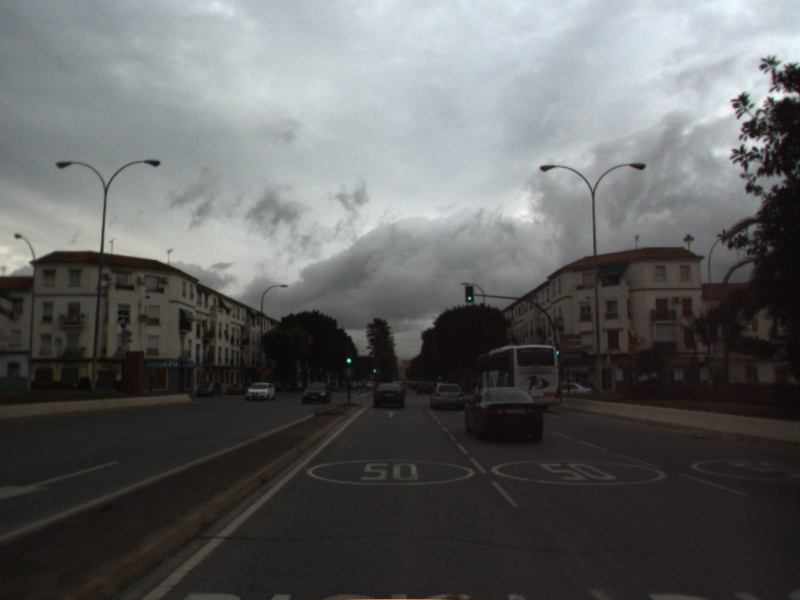STRAIGHT: (383, 408, 401, 420)
